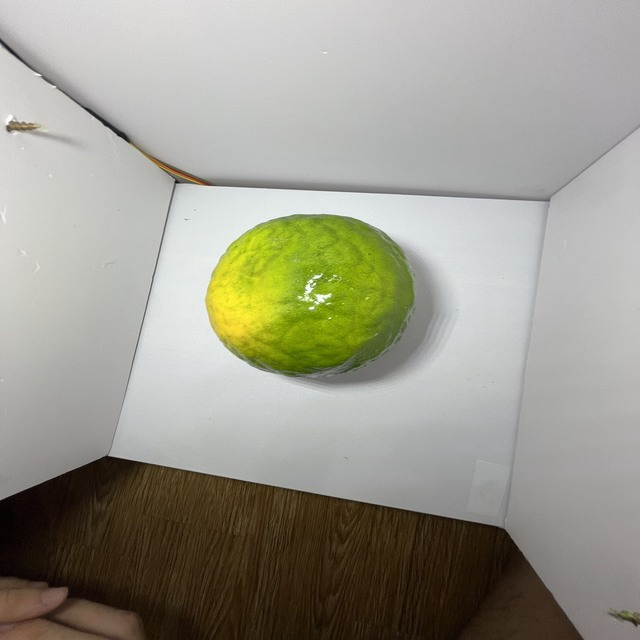Cam xanh: (206, 214, 424, 385)
